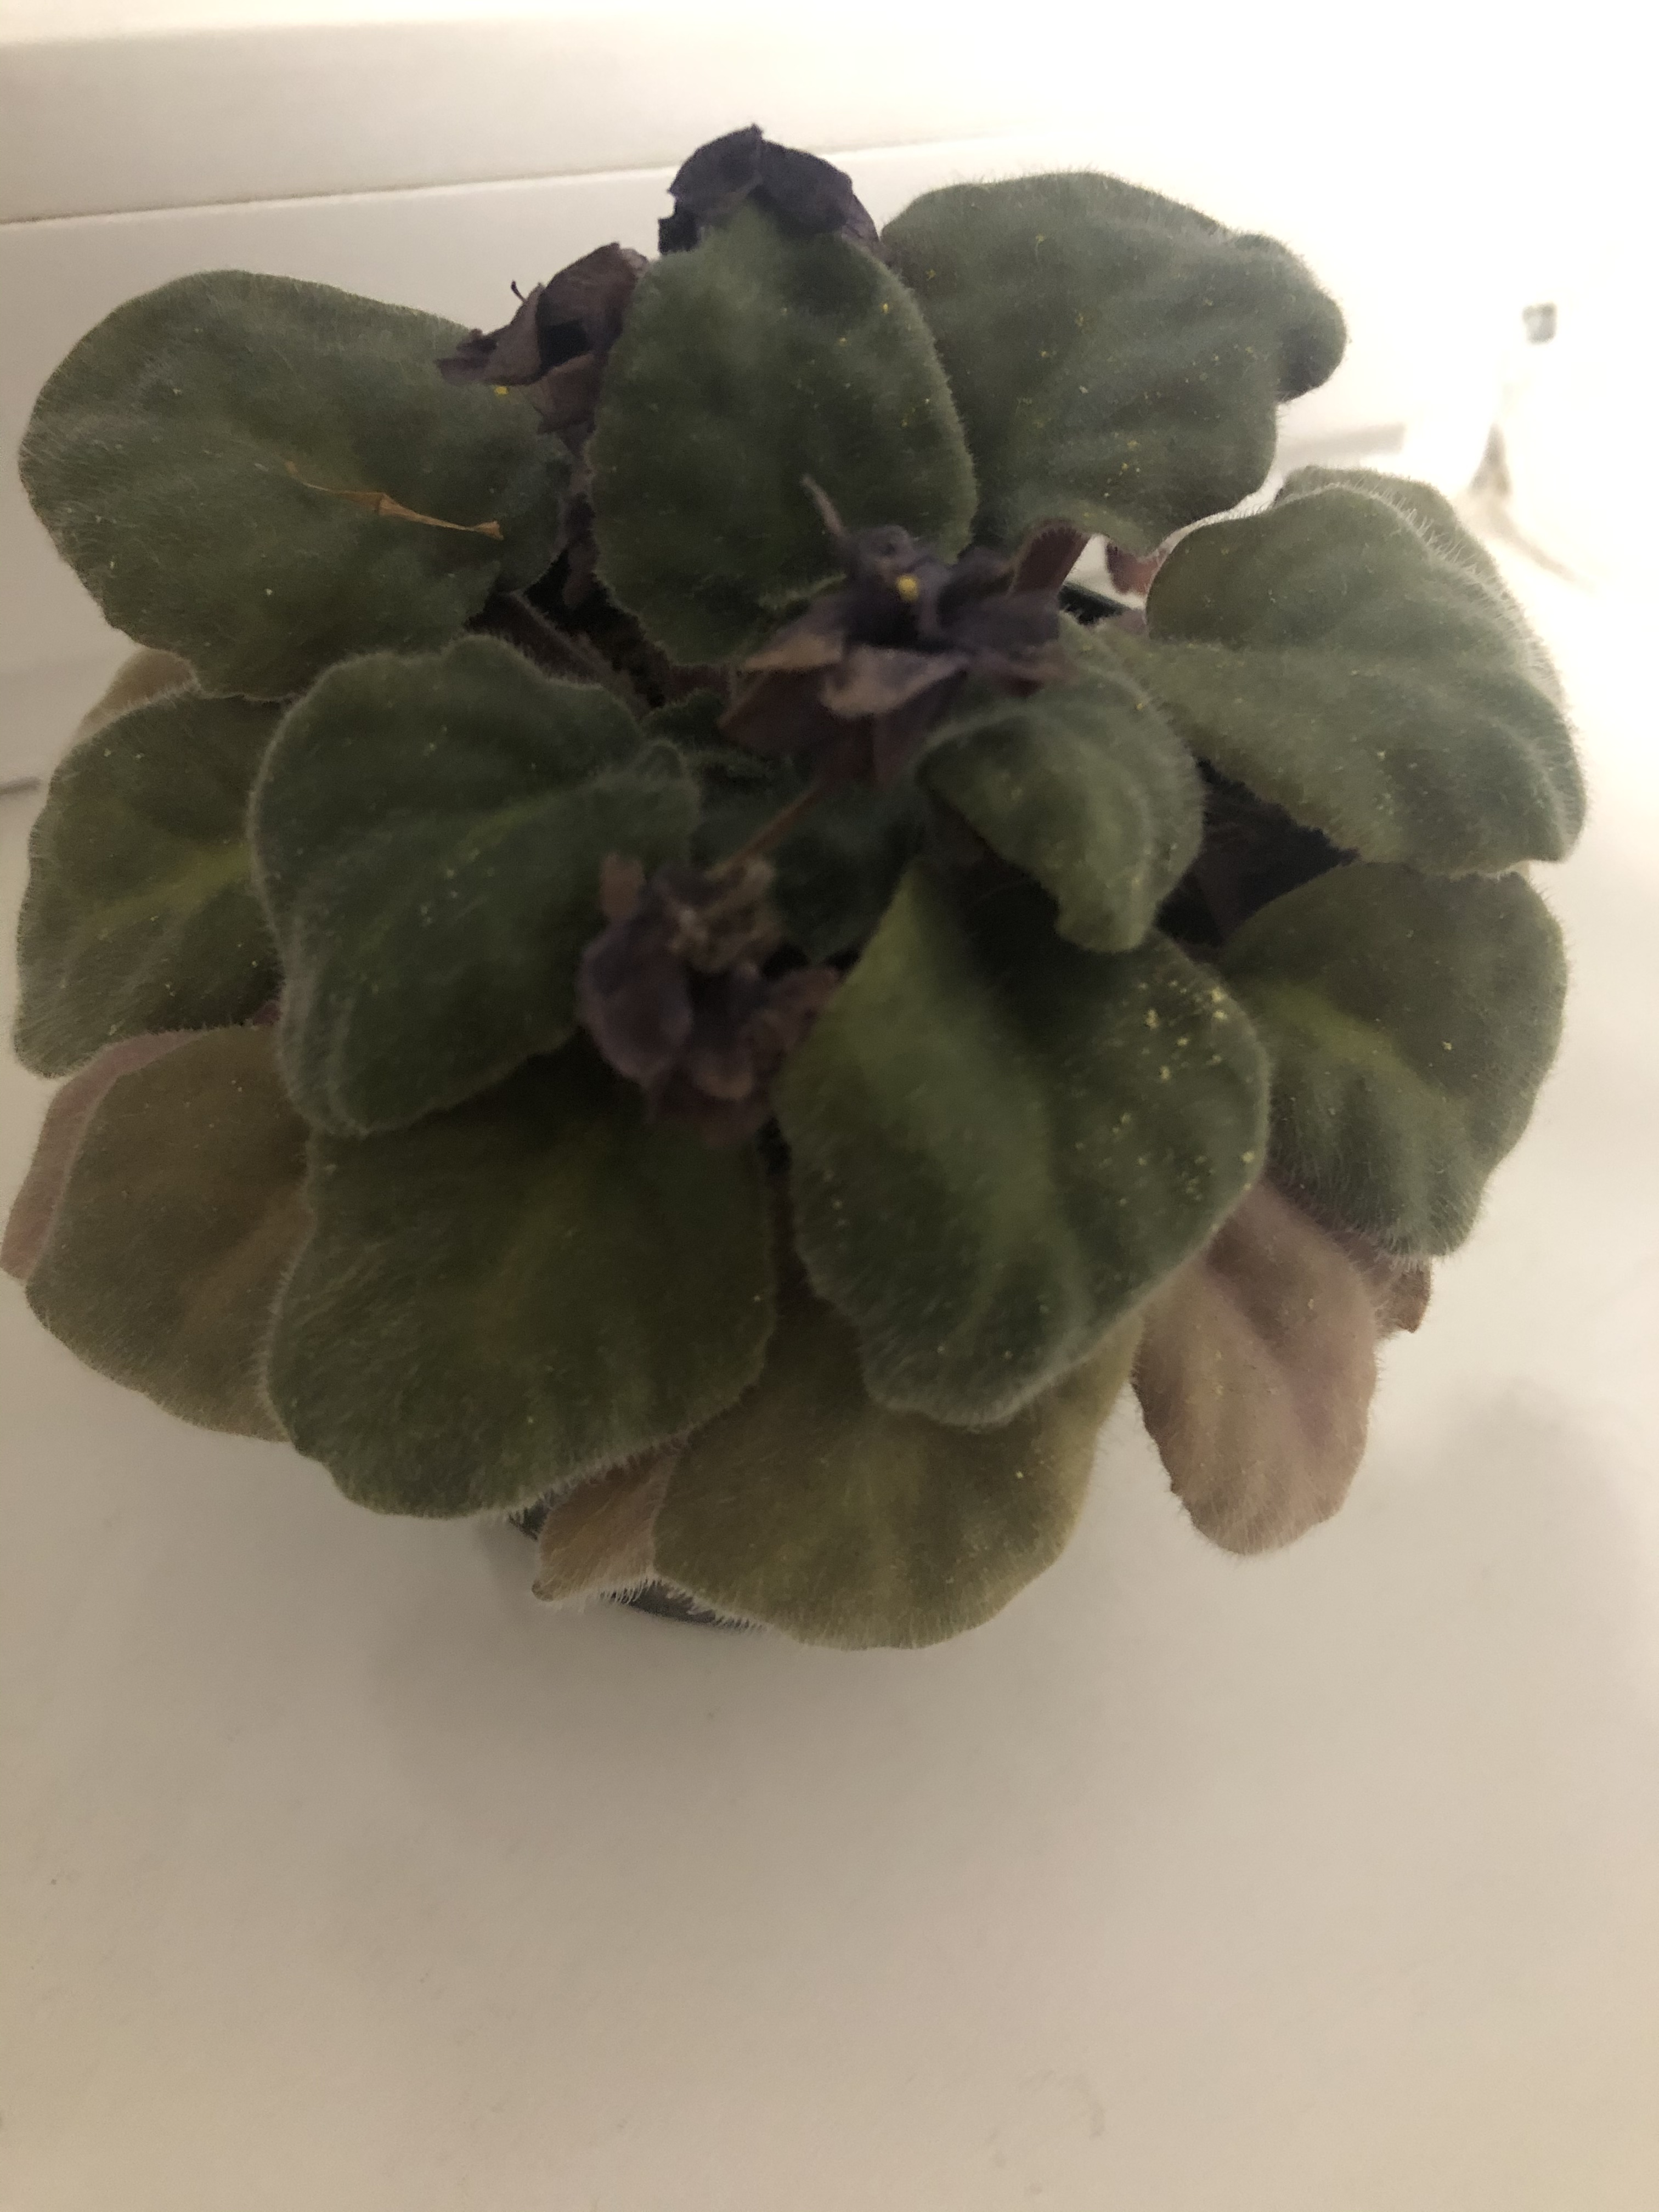ignore: (12, 113, 1582, 1689)
